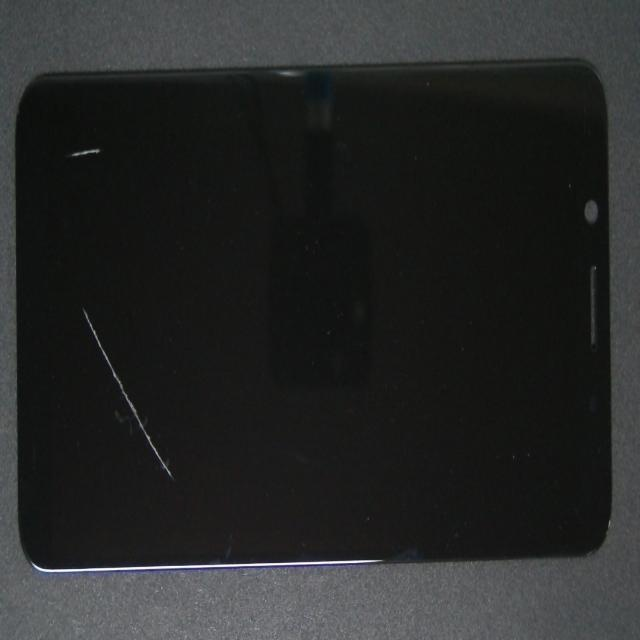scratch: (145, 328, 226, 616), (77, 83, 143, 213)
